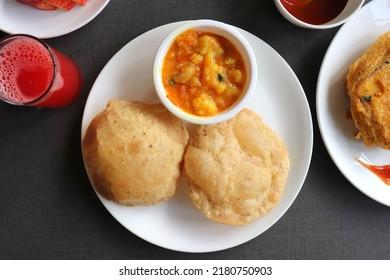puri: (89, 121, 287, 230)
